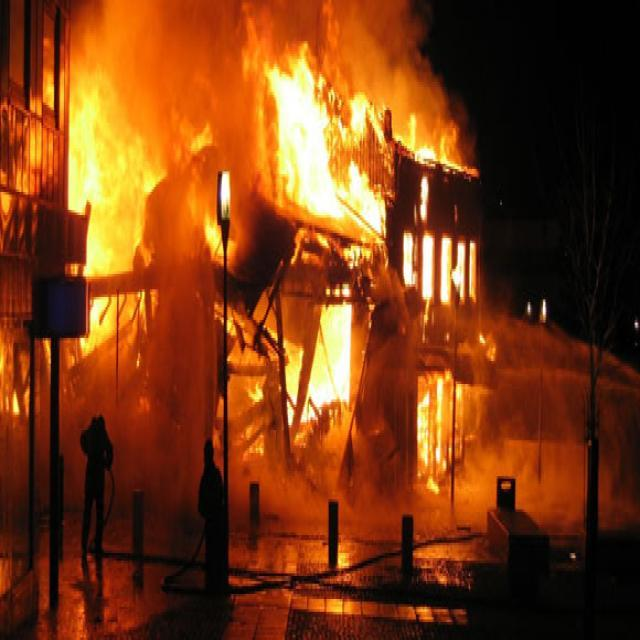Fire: (70, 98, 164, 344), (276, 54, 380, 240), (293, 297, 364, 422), (406, 223, 484, 299), (398, 118, 468, 180), (419, 379, 453, 484)
Smoke: (89, 0, 292, 175), (77, 344, 197, 516), (327, 0, 444, 106), (215, 464, 338, 530)
